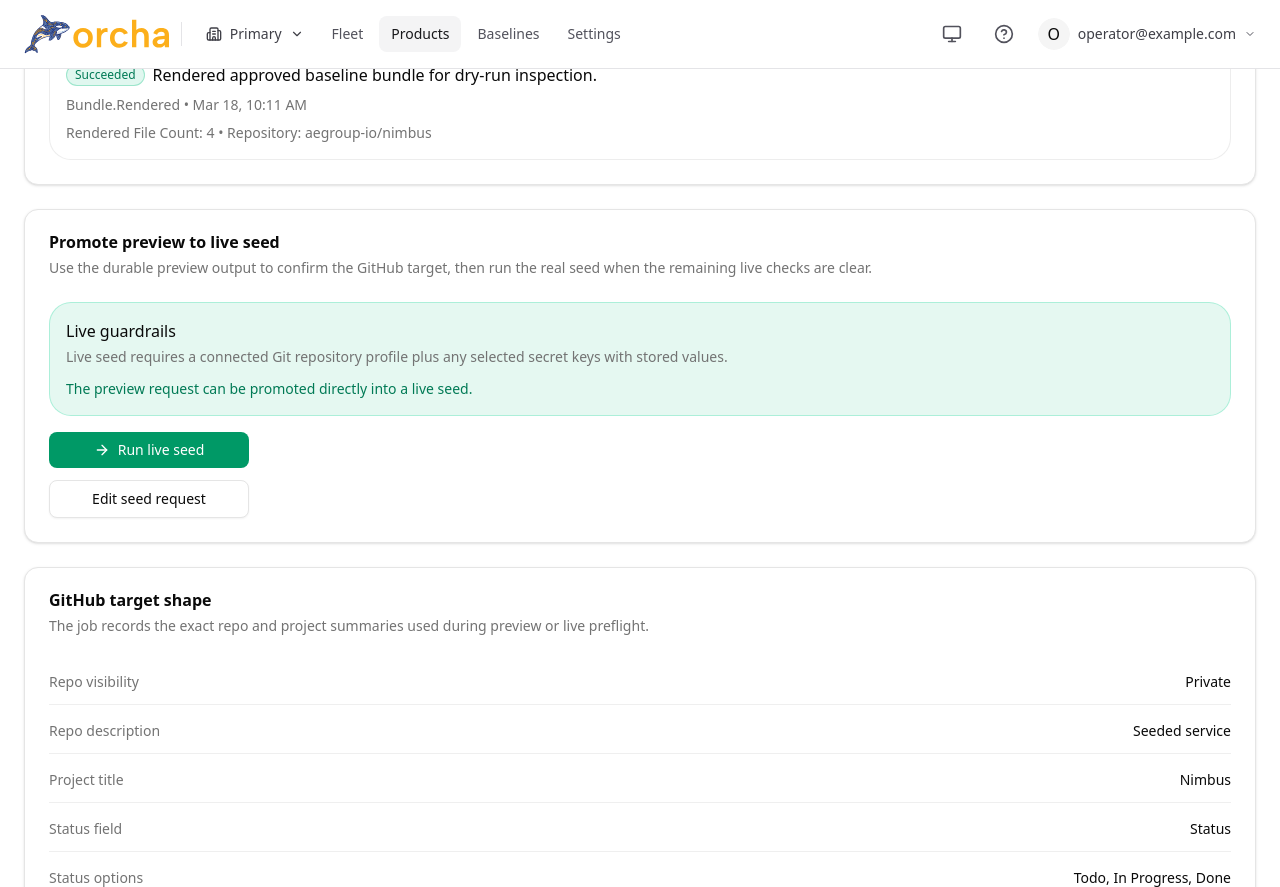
Test: App › rehydrates a legacy installation id from workspace defaults when promoting a preview job
The width and height of the screenshot is (1280, 887).
(page scrolled)
Click the button "Run live seed" at x=149, y=450, box [49, 432, 249, 468]
(page scrolled)
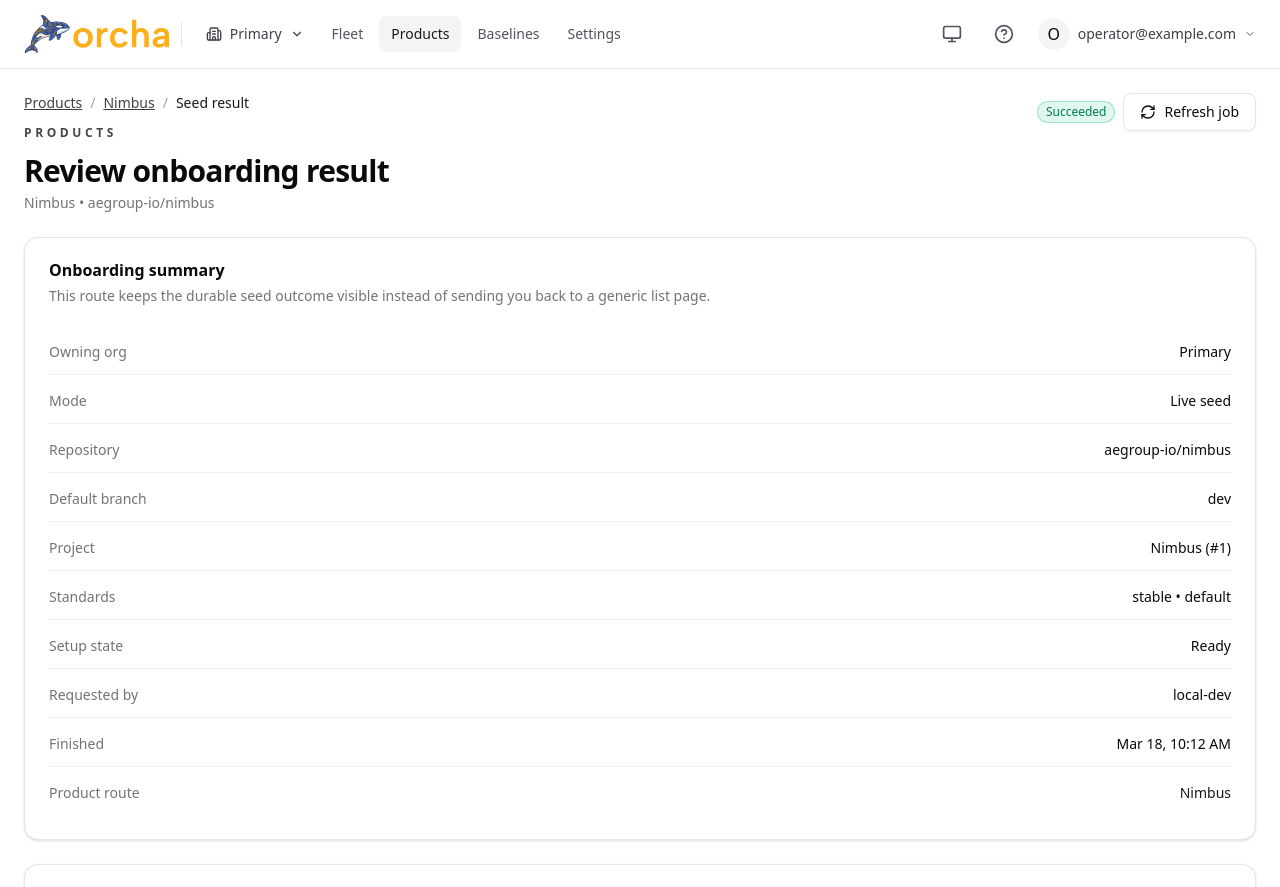
Check: the heading "Review onboarding result" is shown, box [24, 153, 389, 189]
